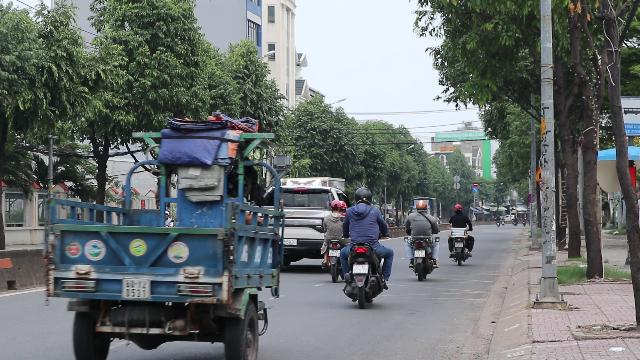helmet: (352, 187, 372, 205)
licenseplate: (352, 264, 368, 274)
motorcyclist: (338, 185, 394, 307)
